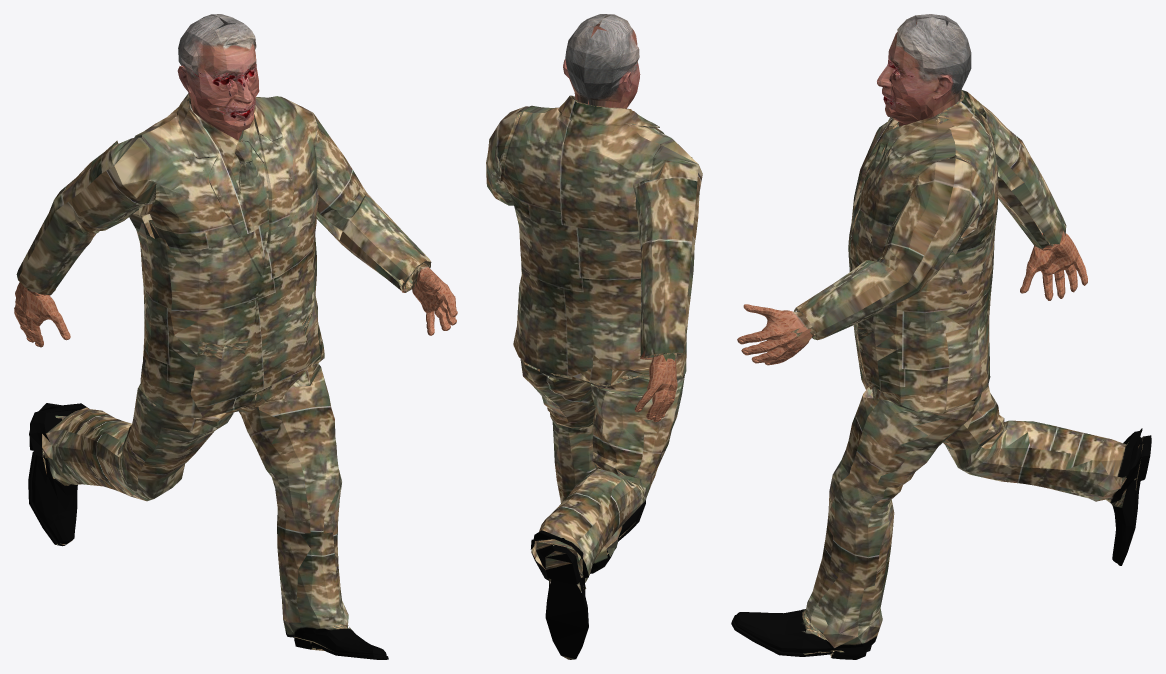
The model's file is zombie_000014.obj.
The picture shows the model from 3 angles, left to right: view 1: azimuth 30°, elevation 25°; view 2: azimuth 150°, elevation 25°; view 3: azimuth 270°, elevation 25°; orthographic projection. The views are drawn at different scales.
Parts seen in each view (by area): view 1: Suit_coat_orig_9___De, objGeo_Hea_orig_9___D; view 2: Suit_coat_orig_9___De, objGeo_Hea_orig_9___D; view 3: Suit_coat_orig_9___De, objGeo_Hea_orig_9___D.
Part boxes in pixels (x1,y1,x2,y2): Suit_coat_orig_9___De: (14, 93, 457, 659); objGeo_Hea_orig_9___D: (177, 14, 259, 140); Suit_coat_orig_9___De: (486, 95, 702, 659); objGeo_Hea_orig_9___D: (563, 14, 640, 108); Suit_coat_orig_9___De: (731, 90, 1151, 659); objGeo_Hea_orig_9___D: (877, 14, 971, 126).
Bounding box in the file's own units: 0.8933 × 1.79 × 1.11.
